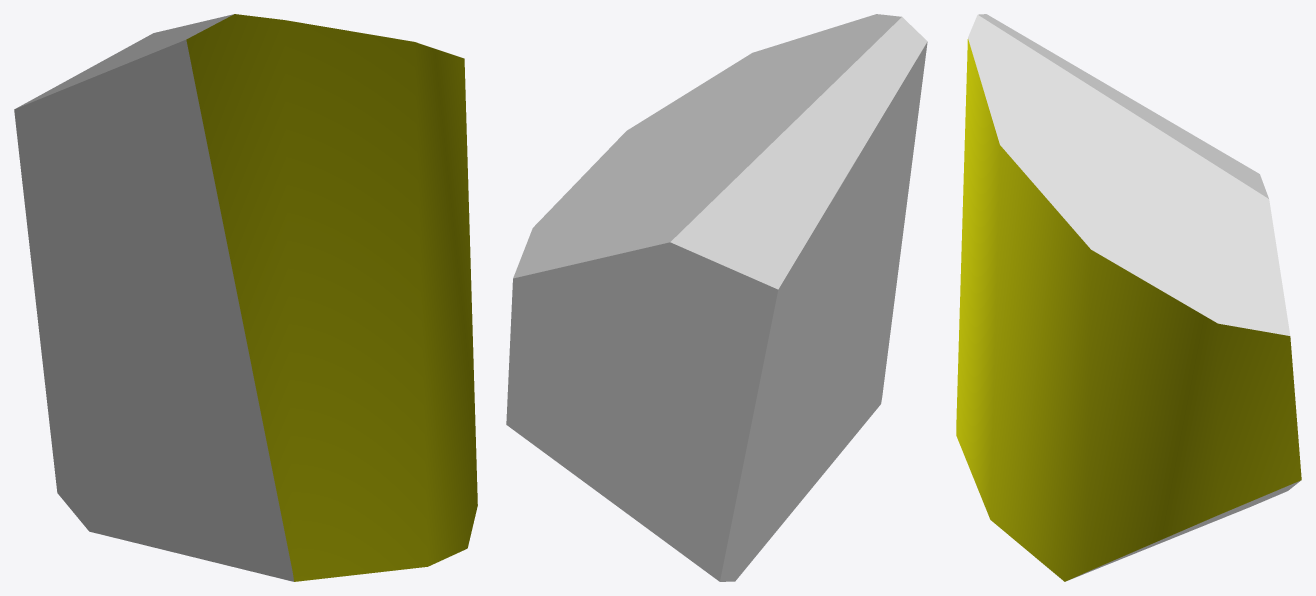
File: mdl_ciudadela_casa_pilar1_fracturepart12.fbx
3 renders of one model, left to right at view 1: azimuth 30°, elevation 25°; view 2: azimuth 150°, elevation 25°; view 3: azimuth 270°, elevation 25°, orthographic. The views are drawn at different scales.
Parts seen in each view (by area): view 1: mdl_ciudadela_casa_pilar1_fracturepart12; view 2: mdl_ciudadela_casa_pilar1_fracturepart12; view 3: mdl_ciudadela_casa_pilar1_fracturepart12.
Part boxes in pixels (box(x1,y1,x2,y2)): mdl_ciudadela_casa_pilar1_fracturepart12: box(14, 14, 477, 581); mdl_ciudadela_casa_pilar1_fracturepart12: box(506, 14, 927, 581); mdl_ciudadela_casa_pilar1_fracturepart12: box(956, 14, 1301, 581).
Size of the model in its own units: 0.4754 by 0.7555 by 0.4958.
